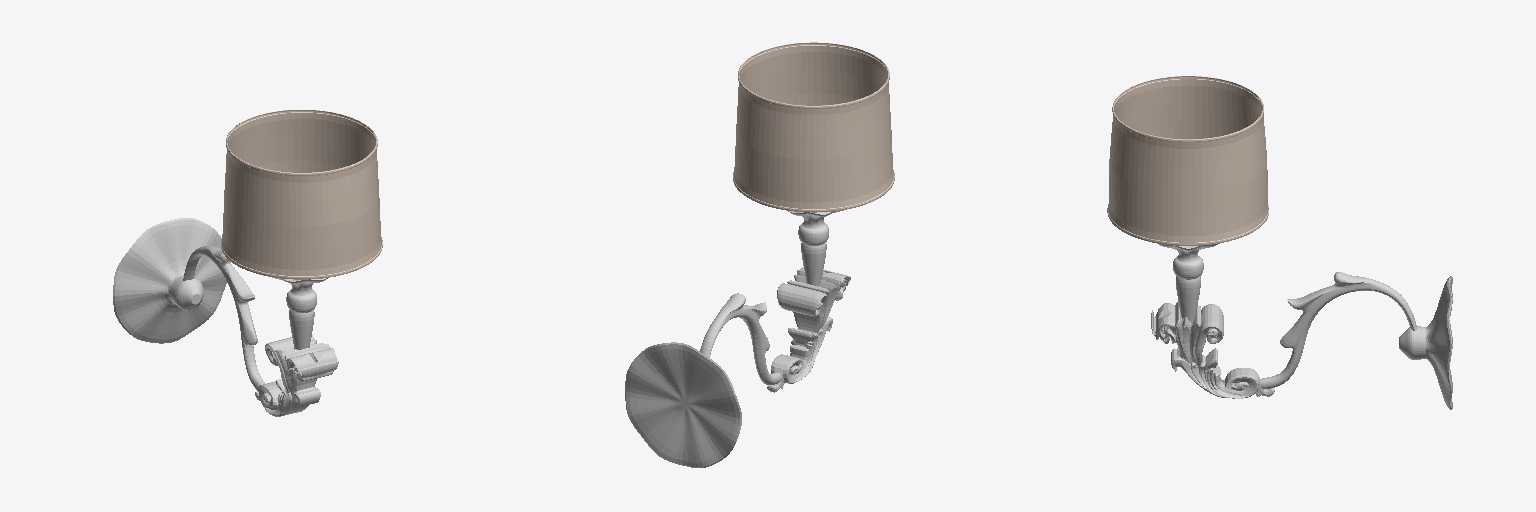
The model's file is lampadaMuro2.obj.
3 views of the same model, side by side, from view 1: azimuth 30°, elevation 25°; view 2: azimuth 150°, elevation 25°; view 3: azimuth 270°, elevation 25° (orthographic).
Parts seen in each view (by area): view 1: BRA_B; view 2: BRA_B; view 3: BRA_B.
Boxes of the visible parts, <box> form: BRA_B: <box>113,110,382,416</box>; BRA_B: <box>625,42,894,467</box>; BRA_B: <box>1107,76,1452,409</box>.
Size of the model in its own units: 0.8358 by 1.69 by 1.78.